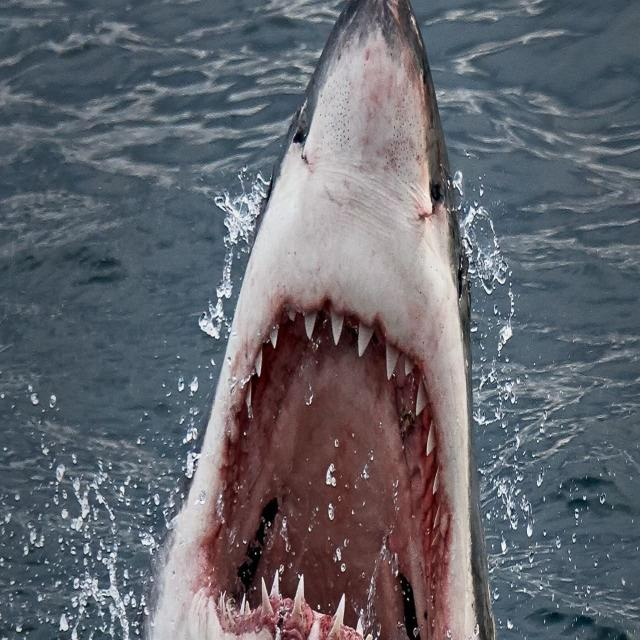shark: (145, 0, 494, 639)
